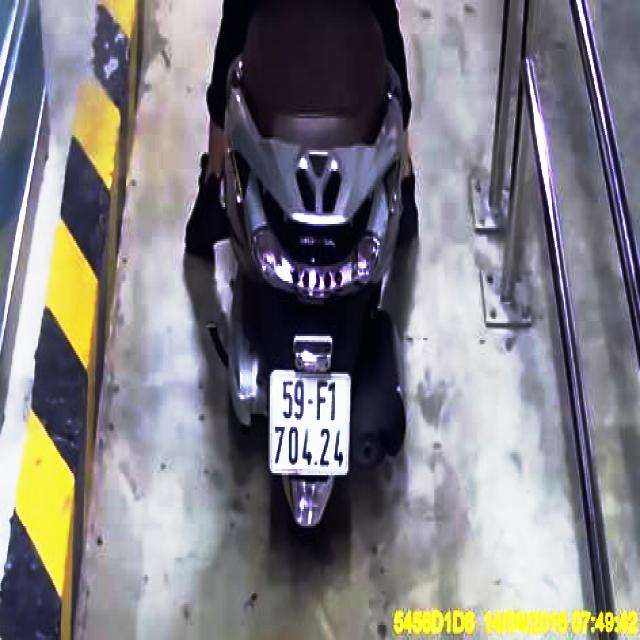license_plate: (271, 372, 352, 477)
